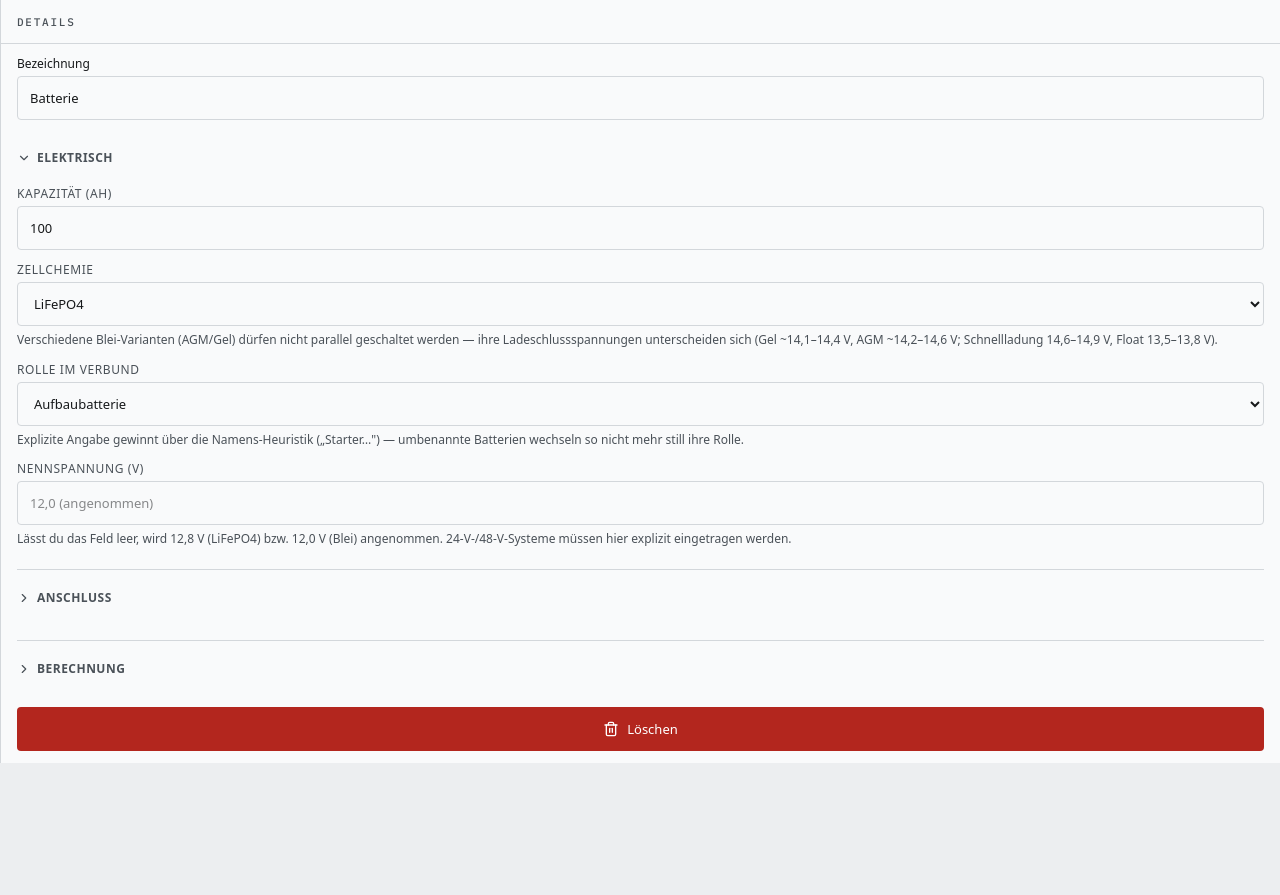
Test: Inspector — Sektionen je Knotentyp › gruppiert die Batterie in Elektrisch, Anschluss und Berechnung
Expected: the field labelled "Kapazität (Ah)" is shown, [17,206,1264,250]
Expected: the field labelled "Peukert-Exponent (k)" is not shown
Click the button "Berechnung": (81, 668) [17,646,1264,690]
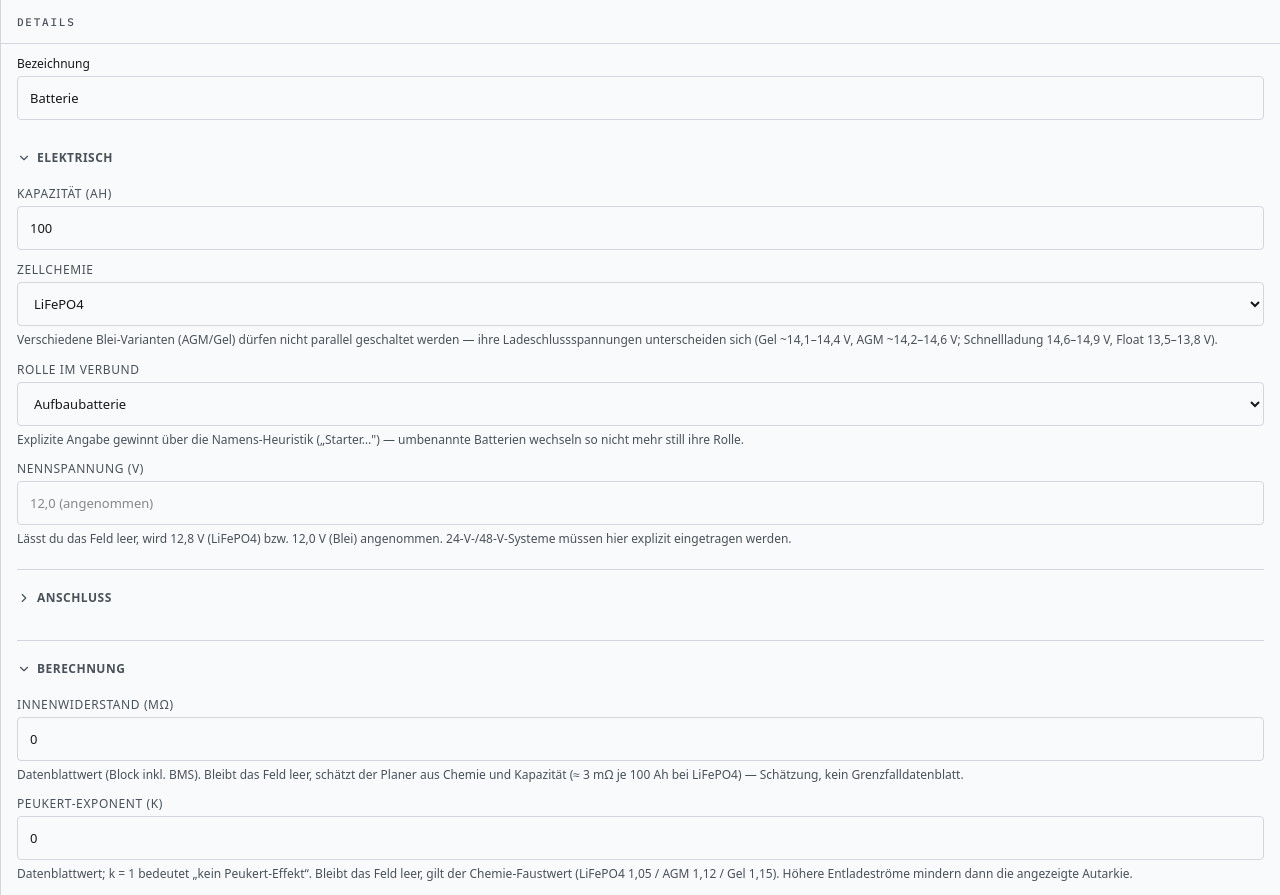
Expected: the field labelled "Peukert-Exponent (k)" is shown, [17,816,1264,860]
